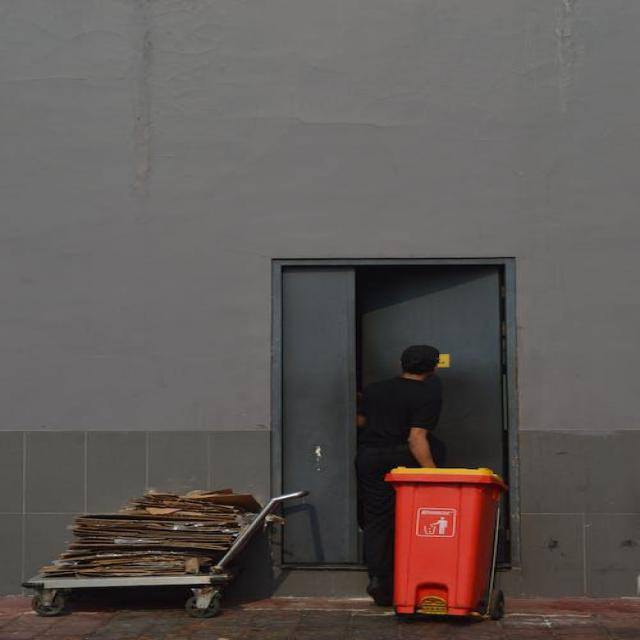cardboard: (65, 482, 223, 572)
